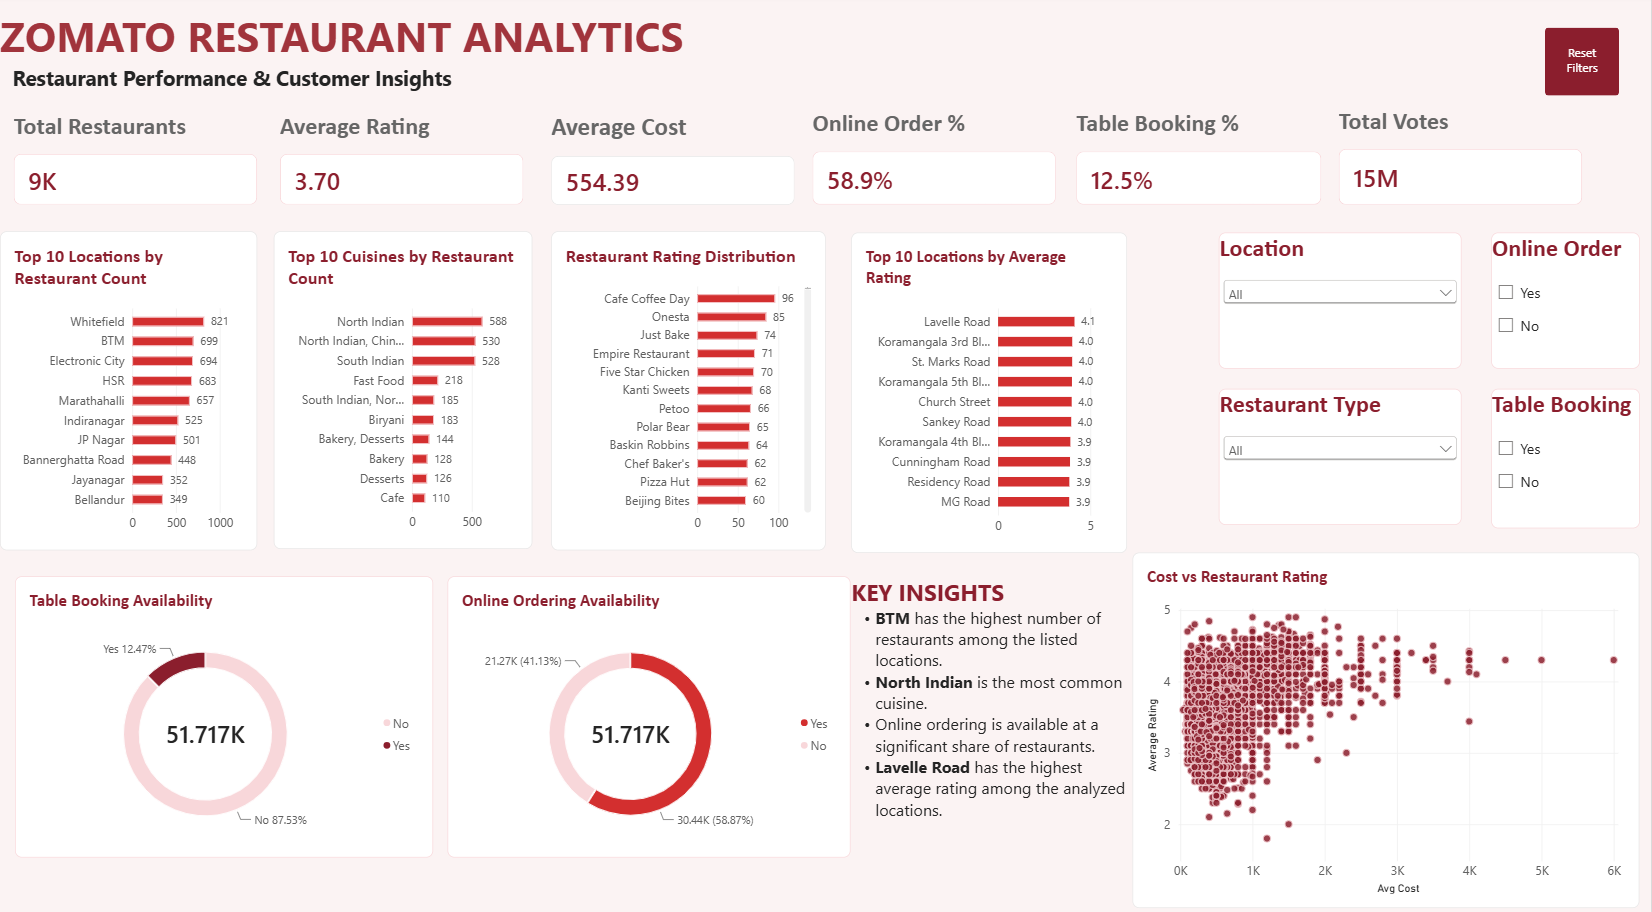

Layout of this report page (visuals, bound fields, positions):
{"tool":"powerbi","page":{"name":"Overview","canvas":[1920,1080],"ordinal":0},"visuals":[{"type":"cardVisual","title":"Total Restaurants","fields":{"Data":["zomato_cleaned.Measure Total Restaurants"]},"box":[15.6,135.6,283.7,109.1],"z":0},{"type":"cardVisual","title":"Average Rating","fields":{"Data":["zomato_cleaned.Measure Average Rating"]},"box":[325.8,135.6,283.7,109.1],"z":1000},{"type":"cardVisual","title":"Average Cost","fields":{"Data":["zomato_cleaned.Measure Avg Cost"]},"box":[640.7,135.6,283.7,109.1],"z":2000},{"type":"cardVisual","title":"Online Order %","fields":{"Data":["zomato_cleaned.Measure Online Order %"]},"box":[944.7,132.5,283.7,112.2],"z":3000},{"type":"cardVisual","title":"Table Booking %","fields":{"Data":["zomato_cleaned.Measure Table Booking %"]},"box":[1251.8,132.5,285.3,112.2],"z":4000},{"type":"cardVisual","title":"Total Votes","fields":{"Data":["zomato_cleaned.Measure Total Votes"]},"box":[1557.3,129.4,283.7,115.4],"z":5000},{"type":"textbox","box":[0,14.4,848,65.9],"z":6000},{"type":"textbox","box":[14.4,80.3,773.9,109.1],"z":7000},{"type":"textbox","box":[58.5,273.8,150.8,163.1],"z":8000},{"type":"clusteredBarChart","title":"Top 10 Locations by Restaurant Count ","fields":{"Category":["zomato_cleaned.location"],"Y":["zomato_cleaned.Measure Total Restaurants"]},"box":[0,274.4,299.3,371],"z":9000},{"type":"clusteredBarChart","title":"Top 10 Cuisines by Restaurant Count","fields":{"Category":["zomato_cleaned.cuisines"],"Y":["zomato_cleaned.Measure Total Restaurants"]},"box":[318,274.4,300.9,369.5],"z":10000},{"type":"clusteredBarChart","title":"Restaurant Rating Distribution","fields":{"Category":["zomato_cleaned.name"],"Y":["CountNonNull(zomato_cleaned.Column Rating Band)"]},"box":[640.7,274.4,319.6,371],"z":11000},{"type":"clusteredBarChart","title":"Top 10 Locations by Average Rating","fields":{"Category":["zomato_cleaned.location"],"Y":["zomato_cleaned.Measure Average Rating"]},"box":[989.7,275.9,320.7,372.4],"z":12000},{"type":"scatterChart","title":"Cost vs Restaurant Rating","fields":{"Category":["zomato_cleaned.name"],"X":["zomato_cleaned.Measure Avg Cost"],"Y":["zomato_cleaned.Measure Average Rating"]},"box":[1317.2,648.3,589.7,413.8],"z":13000},{"type":"donutChart","title":"Online Ordering Availability","fields":{"Category":["zomato_cleaned.online_order"],"Y":["CountNonNull(zomato_cleaned.name)"]},"box":[520.7,675.9,469,327.6],"z":14000},{"type":"donutChart","title":"Table Booking Availability","fields":{"Category":["zomato_cleaned.book_table"],"Y":["CountNonNull(zomato_cleaned.name)"]},"box":[17.2,675.9,486.2,327.6],"z":15000},{"type":"slicer","title":"Location","fields":{"Values":["zomato_cleaned.location"]},"box":[1417.2,275.9,282.8,158.6],"z":16000},{"type":"slicer","title":"Restaurant Type","fields":{"Values":["zomato_cleaned.rest_type"]},"box":[1417.2,458.6,282.8,158.6],"z":17000},{"type":"slicer","title":"Online Order","fields":{"Values":["zomato_cleaned.online_order"]},"box":[1734.5,275.9,172.4,158.6],"z":18000},{"type":"slicer","title":"Table Booking","fields":{"Values":["zomato_cleaned.book_table"]},"box":[1734.5,458.6,172.4,162.1],"z":19000},{"type":"textbox","box":[989.7,675.9,327.6,362.1],"z":20000},{"type":"actionButton","box":[1796.6,37.9,86.2,79.3],"z":21000}]}

Visuals, with their boxes in screenshot pixels (x1, y1, x2, y2), scaled from the page's 1920x1080 canvas onto the 1652x912 screenshot:
"Total Restaurants" cardVisual: [x1=13, y1=115, x2=258, y2=207]
"Average Rating" cardVisual: [x1=280, y1=115, x2=524, y2=207]
"Average Cost" cardVisual: [x1=551, y1=115, x2=795, y2=207]
"Online Order %" cardVisual: [x1=813, y1=112, x2=1057, y2=207]
"Table Booking %" cardVisual: [x1=1077, y1=112, x2=1323, y2=207]
"Total Votes" cardVisual: [x1=1340, y1=109, x2=1584, y2=207]
textbox: [x1=0, y1=12, x2=730, y2=68]
textbox: [x1=12, y1=68, x2=678, y2=160]
textbox: [x1=50, y1=231, x2=180, y2=369]
"Top 10 Locations by Restaurant Count " clusteredBarChart: [x1=0, y1=232, x2=258, y2=545]
"Top 10 Cuisines by Restaurant Count" clusteredBarChart: [x1=274, y1=232, x2=533, y2=544]
"Restaurant Rating Distribution" clusteredBarChart: [x1=551, y1=232, x2=826, y2=545]
"Top 10 Locations by Average Rating" clusteredBarChart: [x1=852, y1=233, x2=1127, y2=547]
"Cost vs Restaurant Rating" scatterChart: [x1=1133, y1=547, x2=1641, y2=897]
"Online Ordering Availability" donutChart: [x1=448, y1=571, x2=852, y2=847]
"Table Booking Availability" donutChart: [x1=15, y1=571, x2=433, y2=847]
"Location" slicer: [x1=1219, y1=233, x2=1463, y2=367]
"Restaurant Type" slicer: [x1=1219, y1=387, x2=1463, y2=521]
"Online Order" slicer: [x1=1492, y1=233, x2=1641, y2=367]
"Table Booking" slicer: [x1=1492, y1=387, x2=1641, y2=524]
textbox: [x1=852, y1=571, x2=1133, y2=877]
actionButton: [x1=1546, y1=32, x2=1620, y2=99]
